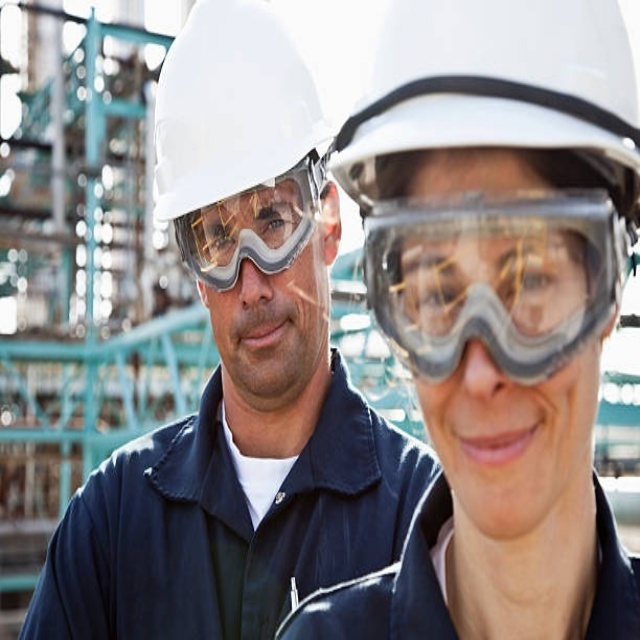Gafas: (359, 188, 625, 384), (173, 154, 328, 293)
Sin_mascara: (449, 394, 565, 497), (226, 304, 296, 381)
